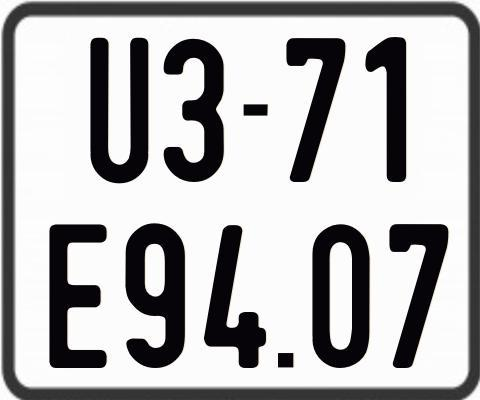0: (309, 222, 371, 368)
1: (364, 36, 406, 182)
3: (161, 38, 223, 181)
4: (203, 225, 266, 372)
7: (285, 37, 350, 186), (389, 221, 451, 366)
9: (123, 223, 184, 374)
E: (46, 222, 108, 370)
U: (90, 38, 151, 183)
